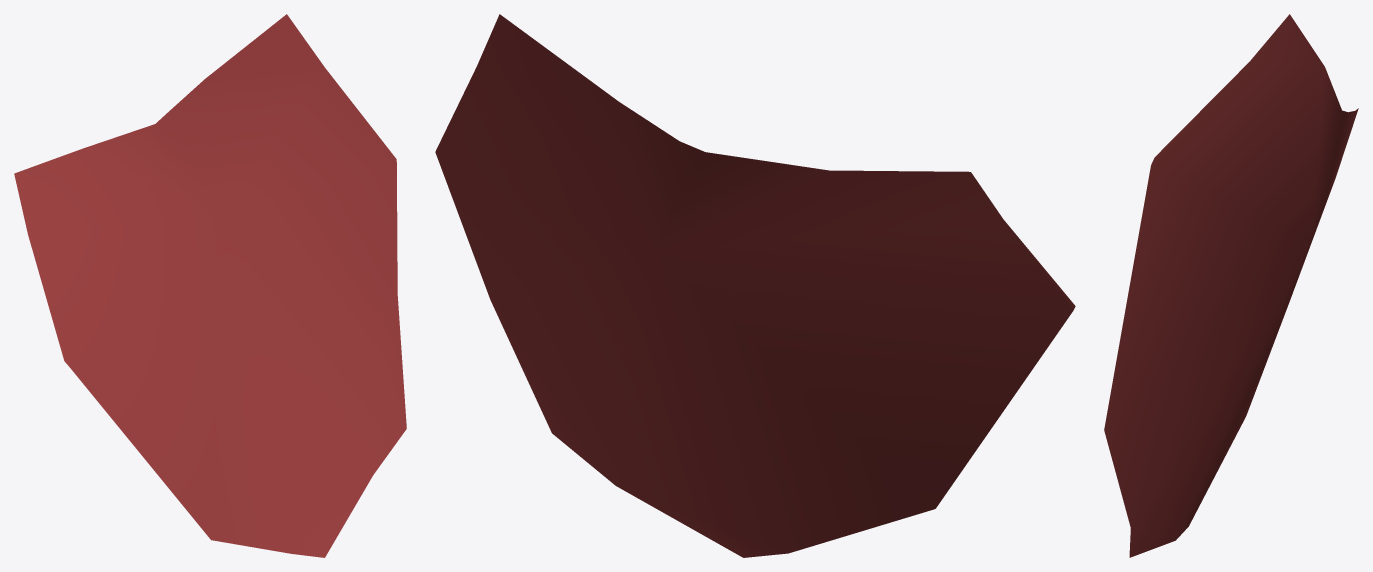
The model's file is extensor-digitorum-e3l.glb.
3 renders of one model, left to right at view 1: azimuth 30°, elevation 25°; view 2: azimuth 150°, elevation 25°; view 3: azimuth 270°, elevation 25°, orthographic. The views are drawn at different scales.
Parts seen in each view (by area): view 1: Extensor digitorum.e3l; view 2: Extensor digitorum.e3l; view 3: Extensor digitorum.e3l.
Part boxes in pixels (left/top/right/bottom): Extensor digitorum.e3l: left=14, top=14, right=406, bottom=557; Extensor digitorum.e3l: left=435, top=14, right=1075, bottom=557; Extensor digitorum.e3l: left=1104, top=14, right=1358, bottom=557.
Bounding box in the file's own units: 0.0056 × 0.00609 × 0.00289.
